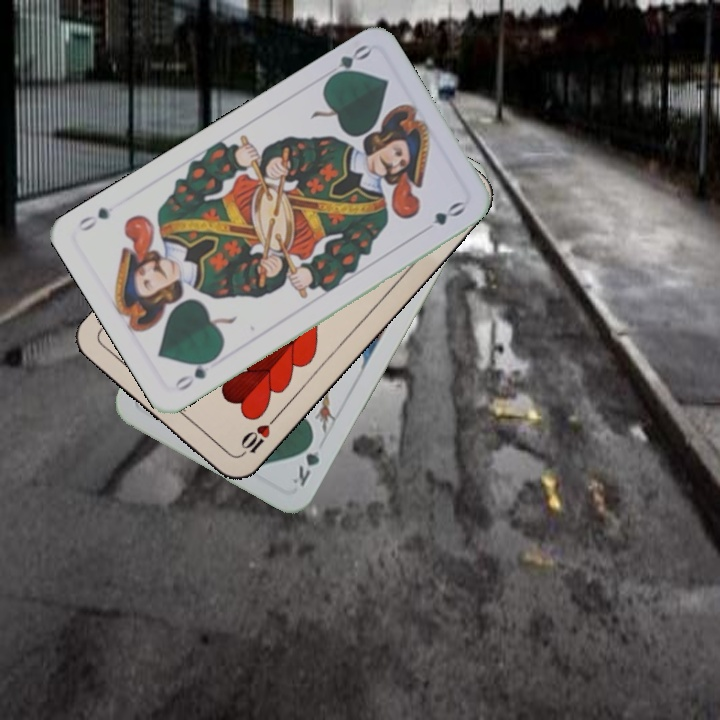GK: (288, 433, 322, 489)
GO: (319, 40, 373, 85), (170, 352, 220, 394)
H10: (235, 412, 280, 460)
